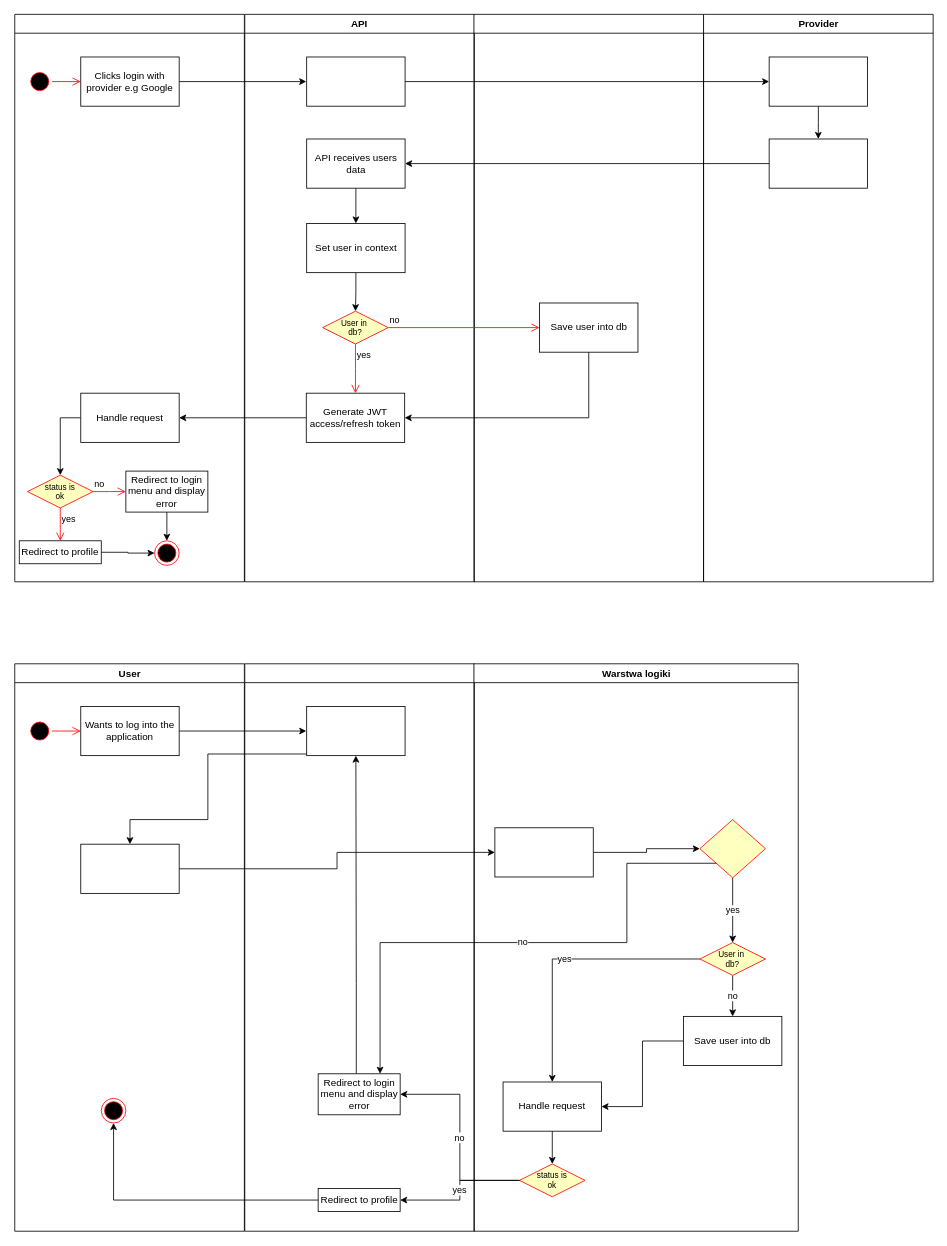
The diagram is 947 pixels wide and 1246 high, and some of its shapes have lost their labels. The box of each missing label's shape, as (x1, y1, x2, y2) in pixels:
API request sent to provider: (494, 827, 593, 877)
App: (14, 14, 244, 582)
DB: (473, 14, 704, 582)
Google makes request to appropriate endpoint (callback): (768, 138, 868, 188)
Redirect user to Google: (306, 56, 405, 106)
Request processed correctly?: (699, 819, 765, 878)
Show options to log in: (306, 706, 405, 756)
User chooses account and finishes log in: (768, 56, 868, 106)
User selects the provider: (80, 843, 179, 893)
Warstwa prezentacji: (244, 663, 474, 1231)
